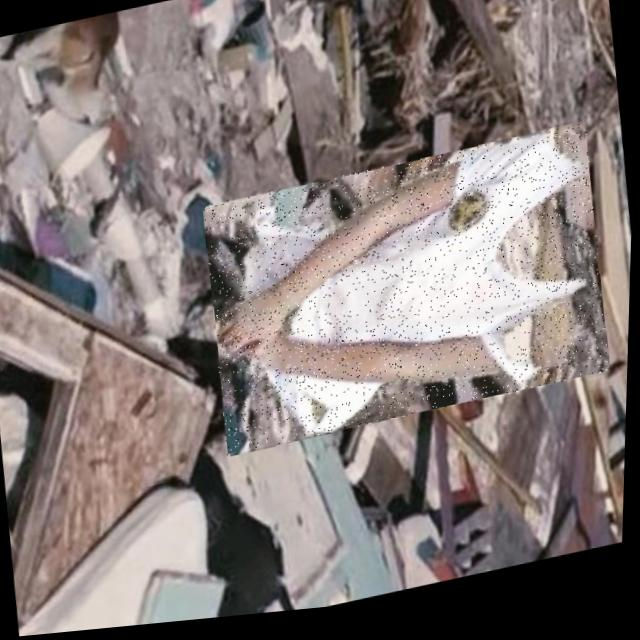Person in Rubble: (197, 132, 616, 462)
